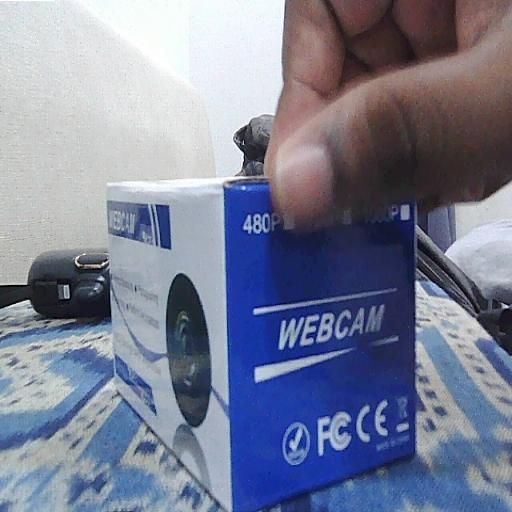webcam_box: (103, 178, 418, 512)
